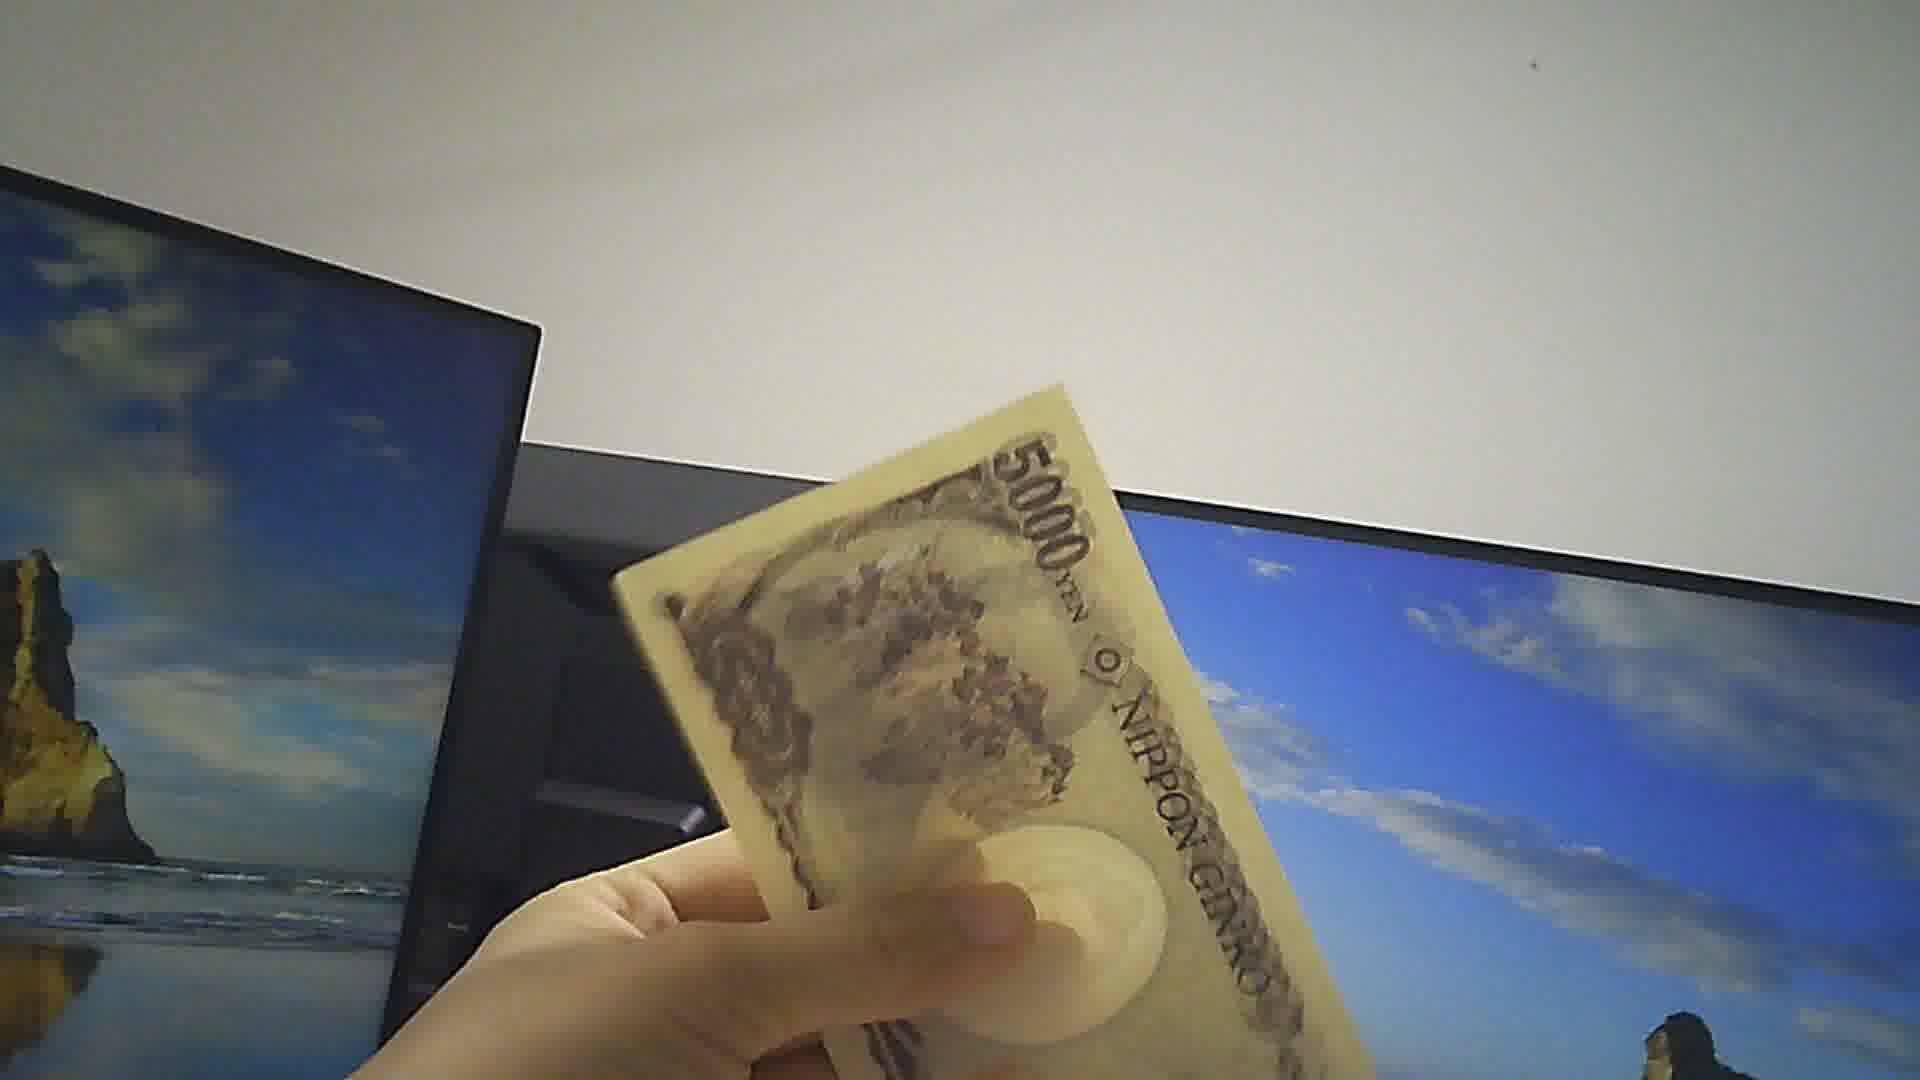5,000 Yen: (618, 388, 1365, 1069)
